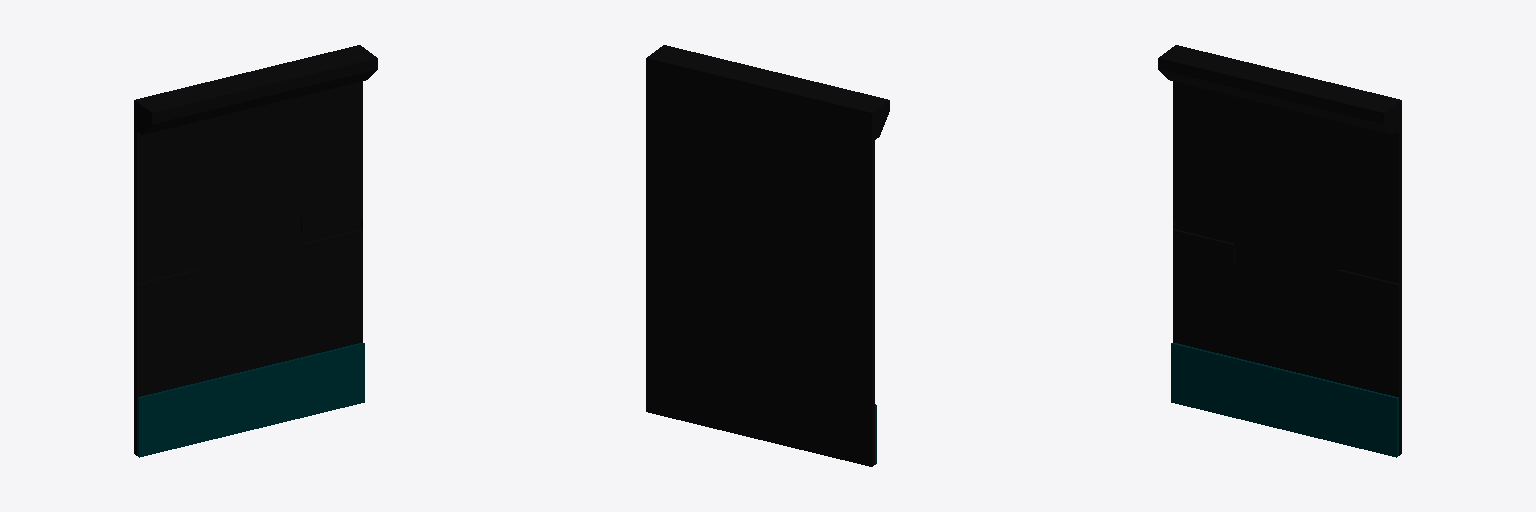
File: SciFiWall3.obj
3 views of the same model, side by side, from view 1: azimuth 30°, elevation 25°; view 2: azimuth 150°, elevation 25°; view 3: azimuth 330°, elevation 25° (orthographic).
Parts seen in each view (by area): view 1: Wall, Wall_Panel, Triangle_Connecter; view 2: Wall, Triangle_Connecter; view 3: Wall, Wall_Panel, Triangle_Connecter.
Part boxes in pixels (bbox=[...]): Wall: bbox=[134, 45, 362, 455]; Wall_Panel: bbox=[137, 343, 364, 457]; Triangle_Connecter: bbox=[137, 47, 377, 134]; Wall: bbox=[646, 57, 874, 466]; Triangle_Connecter: bbox=[648, 45, 889, 140]; Wall: bbox=[1173, 45, 1401, 455]; Wall_Panel: bbox=[1171, 343, 1398, 457]; Triangle_Connecter: bbox=[1158, 47, 1399, 134].
Bounding box in the file's own units: 4 × 6 × 0.55.